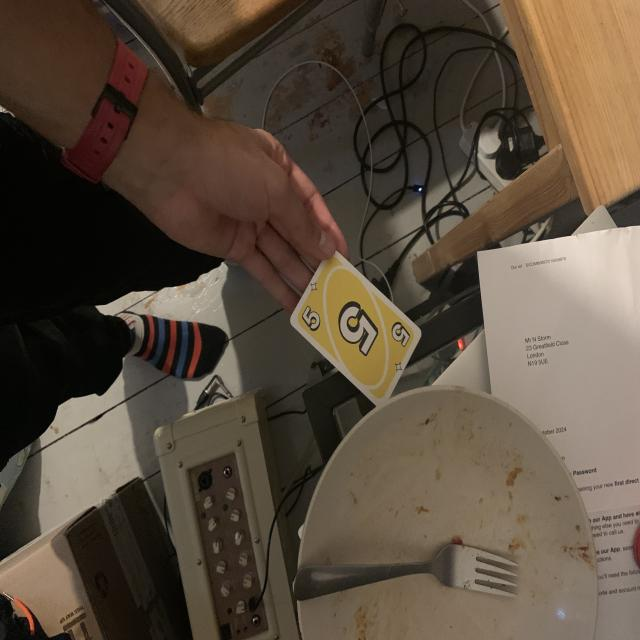lyellow-5: (298, 303, 326, 335)
